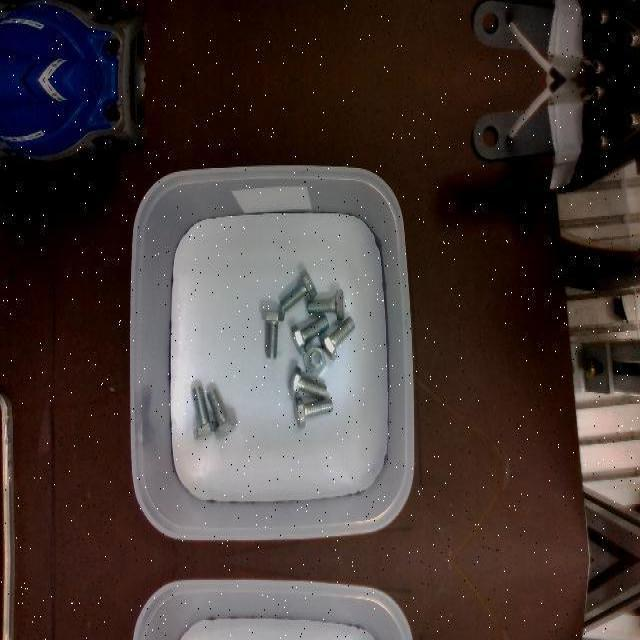screw: (280, 268, 317, 312), (290, 315, 329, 355), (207, 388, 238, 438), (320, 317, 355, 361), (192, 385, 218, 439), (290, 364, 328, 398), (294, 396, 333, 428), (307, 289, 344, 319), (262, 311, 285, 359), (303, 344, 327, 376)
